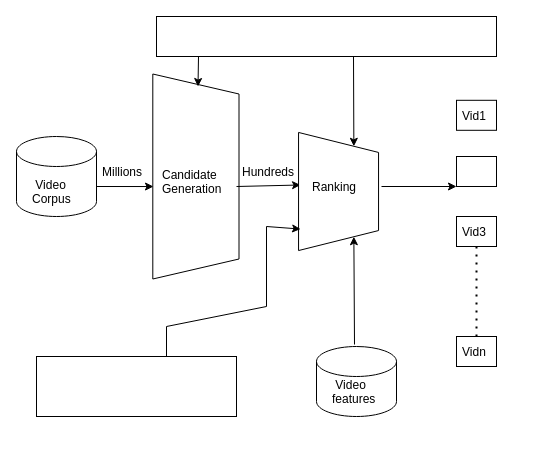
The diagram is 553 pixels wide and 453 high, and some of its shapes have lost their labels. The centre of each missing label's shape, as x and y in pixels:
Other Candidate Sources: the point at 136,386
User History: the point at 326,36
Vid2: the point at 476,171
